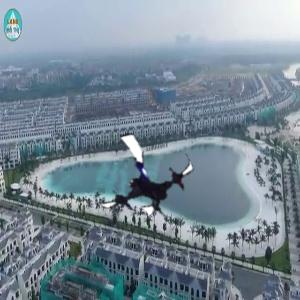drone: (87, 123, 196, 232)
